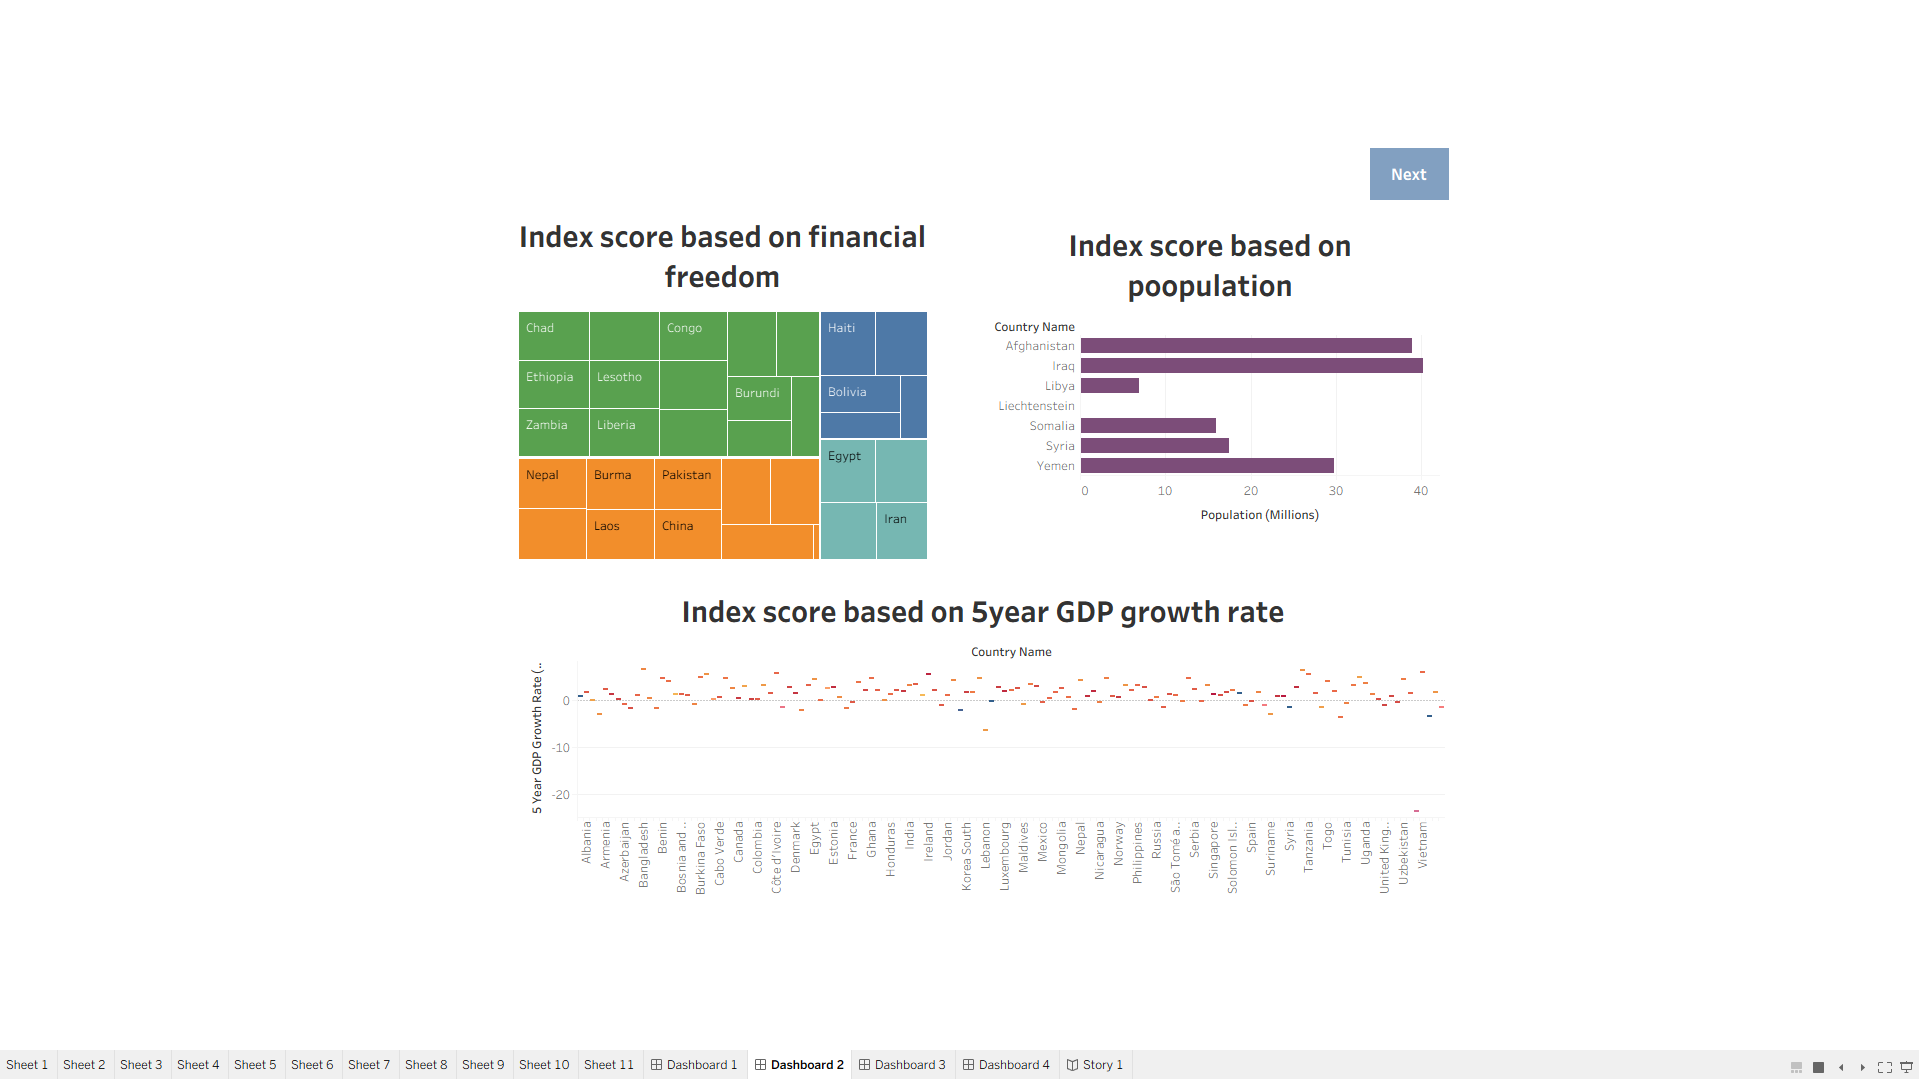

Layout of this report page (visuals, bound fields, positions):
{"tool":"tableau","page":{"name":"Dashboard 2","canvas":[1000,800],"ordinal":1},"visuals":[{"type":"dashboard-object","box":[910,23,79,52]},{"type":"worksheet","title":"Sheet 5","mark":"Automatic","box":[53,86,419,359]},{"type":"worksheet","title":"Sheet 6","mark":"Automatic","rows":["Country Name"],"cols":["Population (Millions)"],"box":[520,95,460,338]},{"type":"worksheet","title":"Sheet 7","mark":"GanttBar","rows":["5 Year GDP Growth Rate (%)"],"cols":["Country Name"],"box":[61,461,924,311]}]}

Visuals, with their boxes on the page's 1000x800 design canvas (x1, y1, x2, y2). These are canvas units, not pixel positions in the 1919x1079 screenshot, which may show the page scaled, cropped or inside an application window:
dashboard-object: Rect(910, 23, 989, 75)
"Sheet 5" worksheet: Rect(53, 86, 472, 445)
"Sheet 6" worksheet: Rect(520, 95, 980, 433)
"Sheet 7" worksheet (GanttBar marks): Rect(61, 461, 985, 772)
